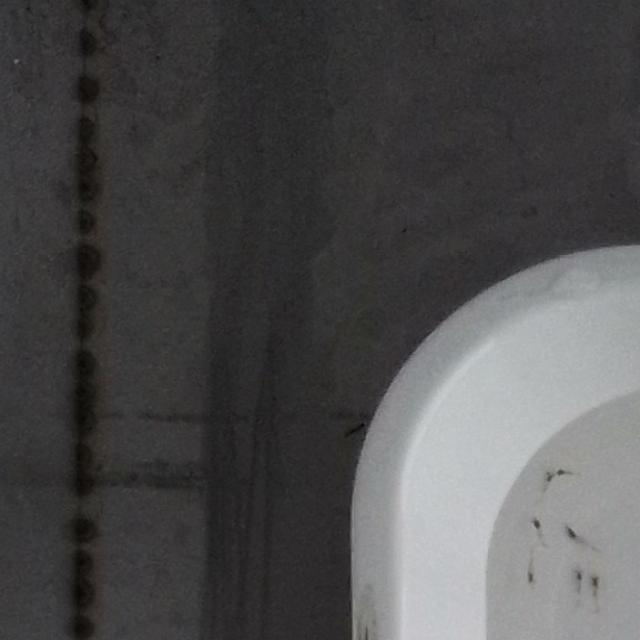shrimp-seed: (564, 524, 580, 542), (528, 516, 546, 532), (571, 570, 588, 584), (555, 466, 573, 479), (588, 576, 604, 590), (523, 570, 537, 586), (544, 471, 556, 485)
